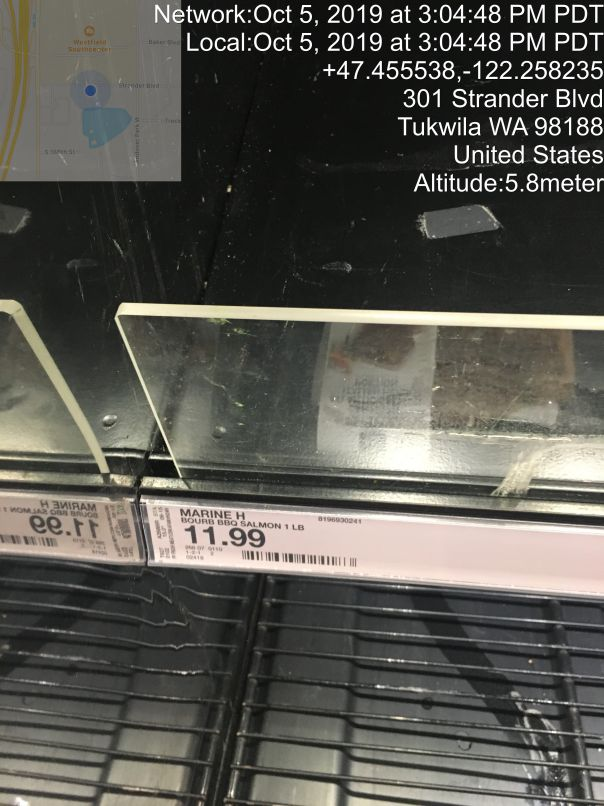Label: (145, 494, 376, 582)
Location: (393, 87, 604, 171)
Time: (148, 5, 604, 55)
Void: (136, 88, 577, 443)
